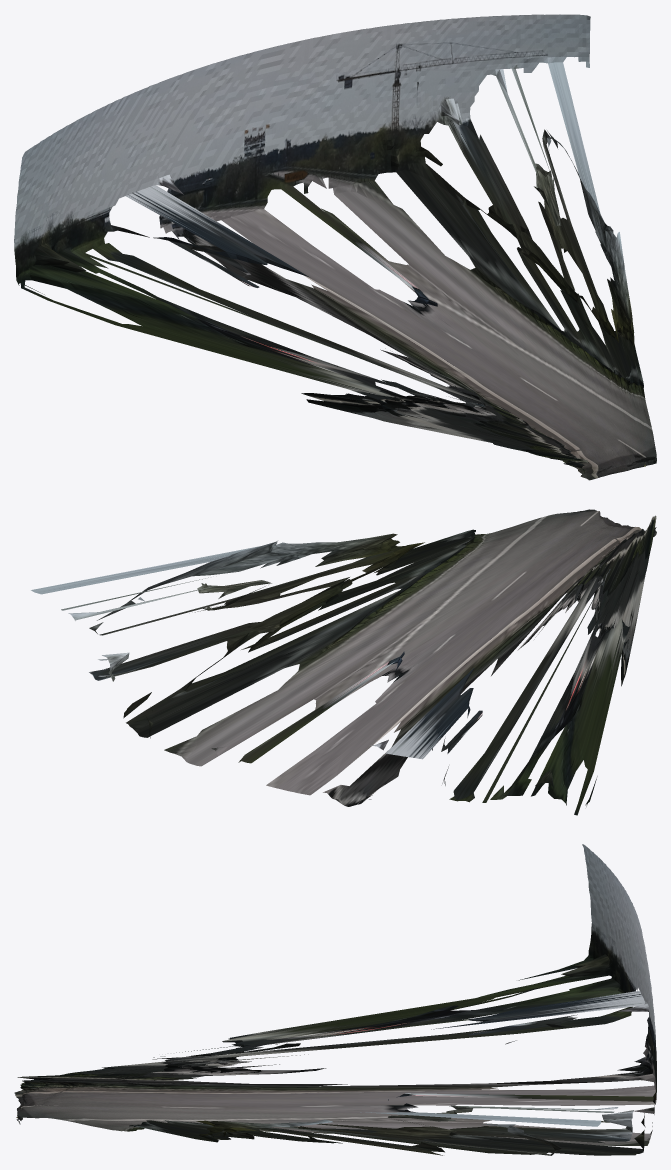
3 renders of one model, top to bottom at view 1: azimuth 30°, elevation 25°; view 2: azimuth 150°, elevation 25°; view 3: azimuth 270°, elevation 25°, orthographic. The views are drawn at different scales.
Parts seen in each view (by area): view 1: defaultobject; view 2: defaultobject; view 3: defaultobject.
Part boxes in pixels (box(x1,y1,x2,y2)): defaultobject: box(14, 14, 656, 480); defaultobject: box(31, 509, 656, 815); defaultobject: box(14, 844, 656, 1155).
Bounding box in the file's own units: 41.02 × 12.05 × 44.45.
Materials: 1 (1 with a texture image).
